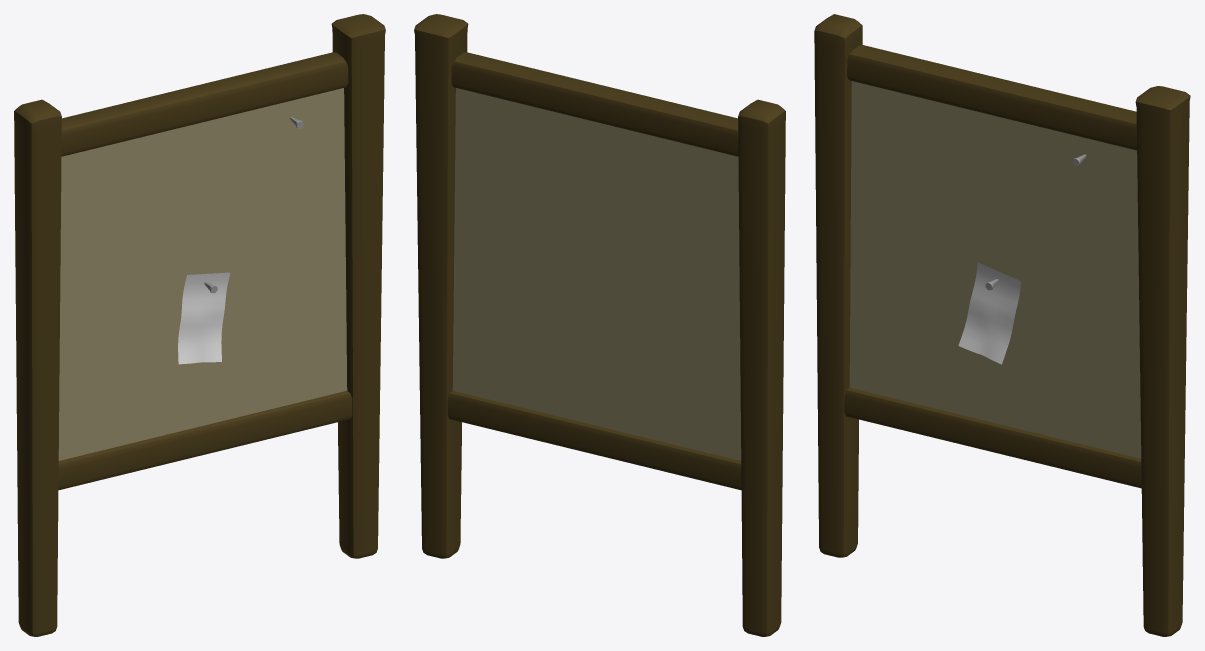
Rendered from Bulletin Board.fbx.
3 renders of one model, left to right at view 1: azimuth 30°, elevation 25°; view 2: azimuth 150°, elevation 25°; view 3: azimuth 330°, elevation 25°, orthographic.
Visible parts, largest first — view 1: Board, R_leg, L_leg, Top, Bottom, Paper; view 2: Board, R_leg, L_leg, Top, Bottom; view 3: Board, L_leg, R_leg, Top, Bottom, Paper.
Part boxes in pixels (x1,y1,x2,y2): Board: [58, 88, 347, 460]; R_leg: [14, 99, 61, 636]; L_leg: [331, 14, 385, 558]; Top: [61, 52, 348, 156]; Bottom: [58, 391, 352, 490]; Paper: [178, 272, 230, 364]; Board: [452, 88, 741, 460]; R_leg: [738, 99, 785, 636]; L_leg: [414, 14, 468, 558]; Top: [451, 52, 738, 156]; Bottom: [447, 391, 741, 490]; Board: [849, 81, 1141, 458]; L_leg: [1135, 86, 1190, 636]; R_leg: [814, 14, 862, 557]; Top: [847, 45, 1136, 150]; Bottom: [844, 388, 1141, 488]; Paper: [958, 262, 1020, 364].
Bounding box in the file's own units: 12.53 × 17.79 × 1.53.
